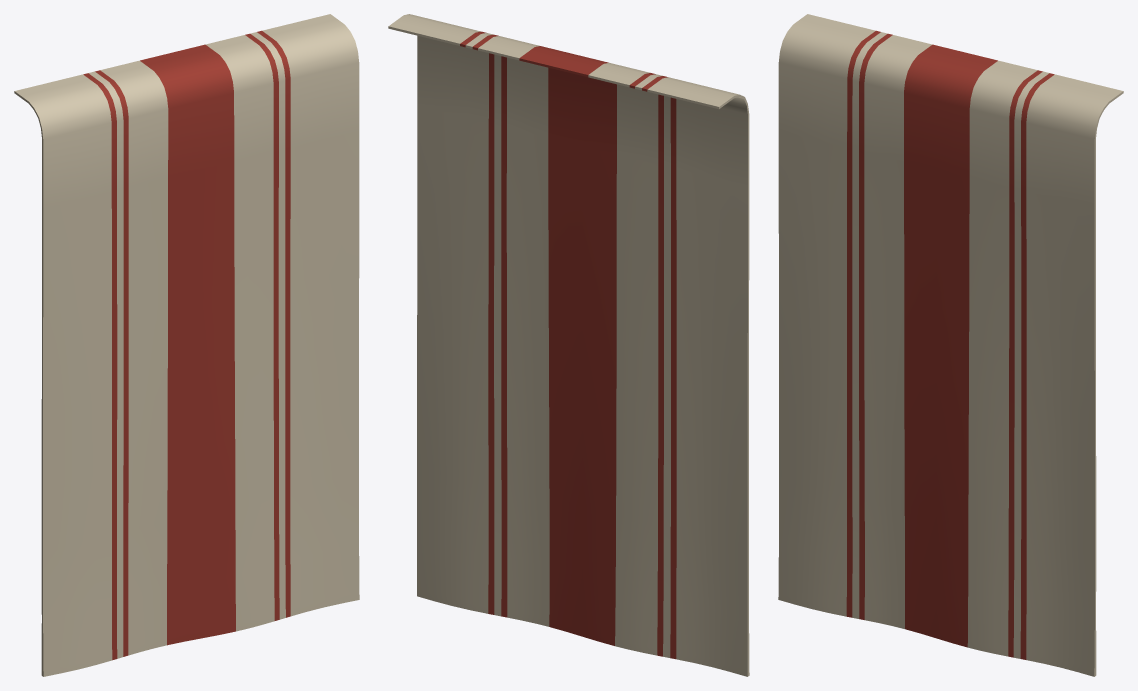
Rendered from kitchen-tea-towel-f1d2b3bb94e4.glb.
3 renders of one model, left to right at view 1: azimuth 30°, elevation 25°; view 2: azimuth 150°, elevation 25°; view 3: azimuth 330°, elevation 25°, orthographic. The views are drawn at different scales.
Visible parts, largest first — view 1: paper, accent-warm; view 2: paper, accent-warm; view 3: paper, accent-warm.
Part boxes in pixels (left/top/right/bottom): paper: left=14, top=14, right=359, bottom=676; accent-warm: left=83, top=30, right=290, bottom=660; paper: left=388, top=14, right=749, bottom=676; accent-warm: left=460, top=31, right=676, bottom=659; paper: left=778, top=14, right=1123, bottom=676; accent-warm: left=846, top=30, right=1054, bottom=659.
Bounding box in the file's own units: 0.24 × 0.4098 × 0.0403.
